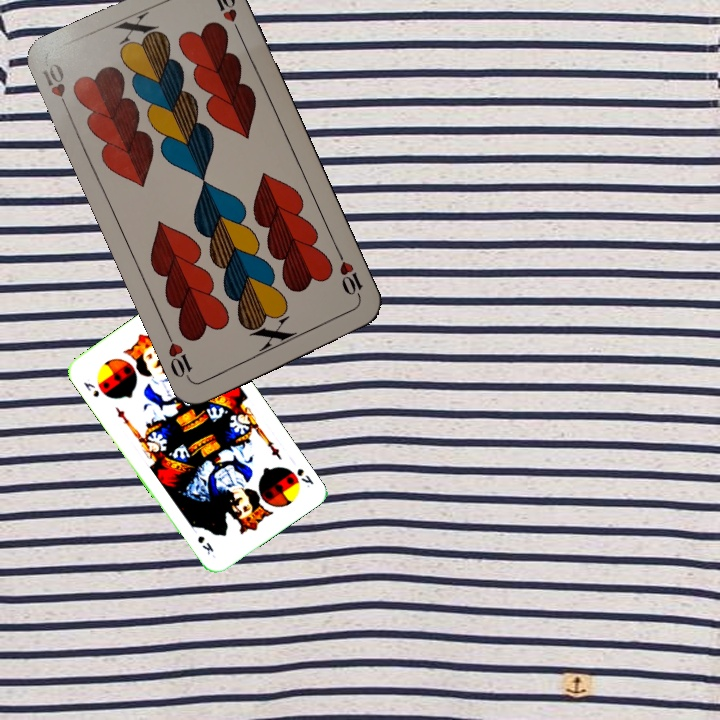H10: (38, 59, 73, 117), (333, 248, 365, 304)
SK: (293, 464, 316, 490), (79, 378, 102, 400)
